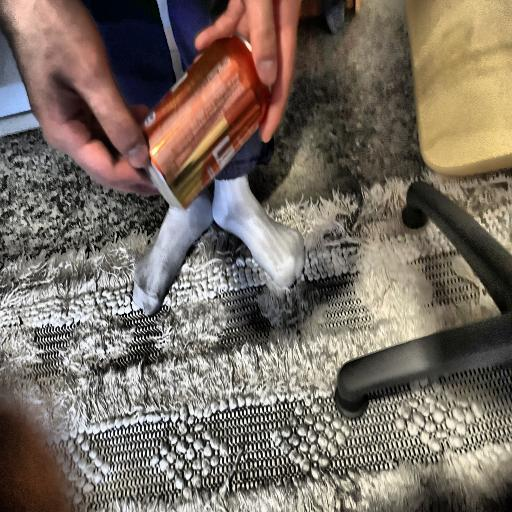coop_larger: (140, 38, 271, 220)
